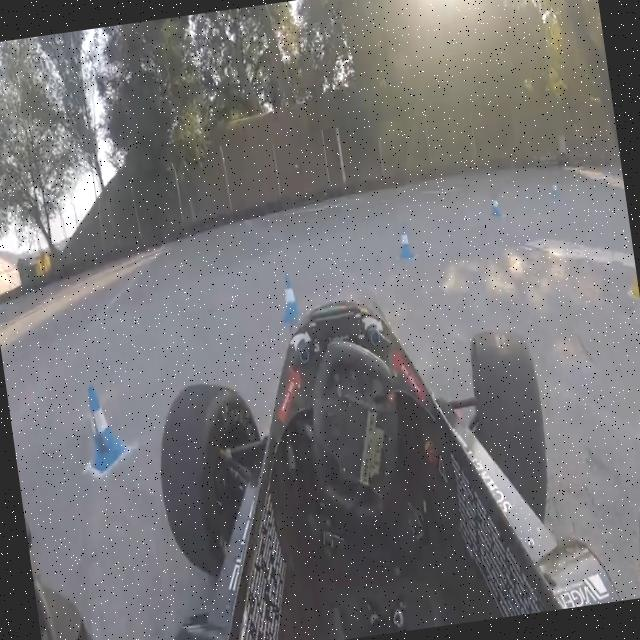blue_cone: (80, 378, 131, 476), (274, 268, 308, 332), (394, 222, 416, 262), (489, 193, 503, 220)
